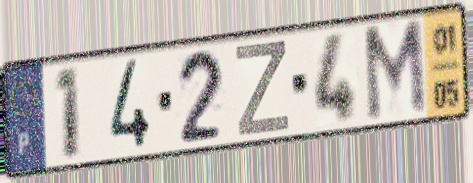1: (53, 63, 85, 163)
2: (176, 45, 228, 151)
4: (311, 29, 362, 125), (107, 57, 154, 154)
M: (360, 15, 430, 127)
Z: (233, 39, 292, 140)
